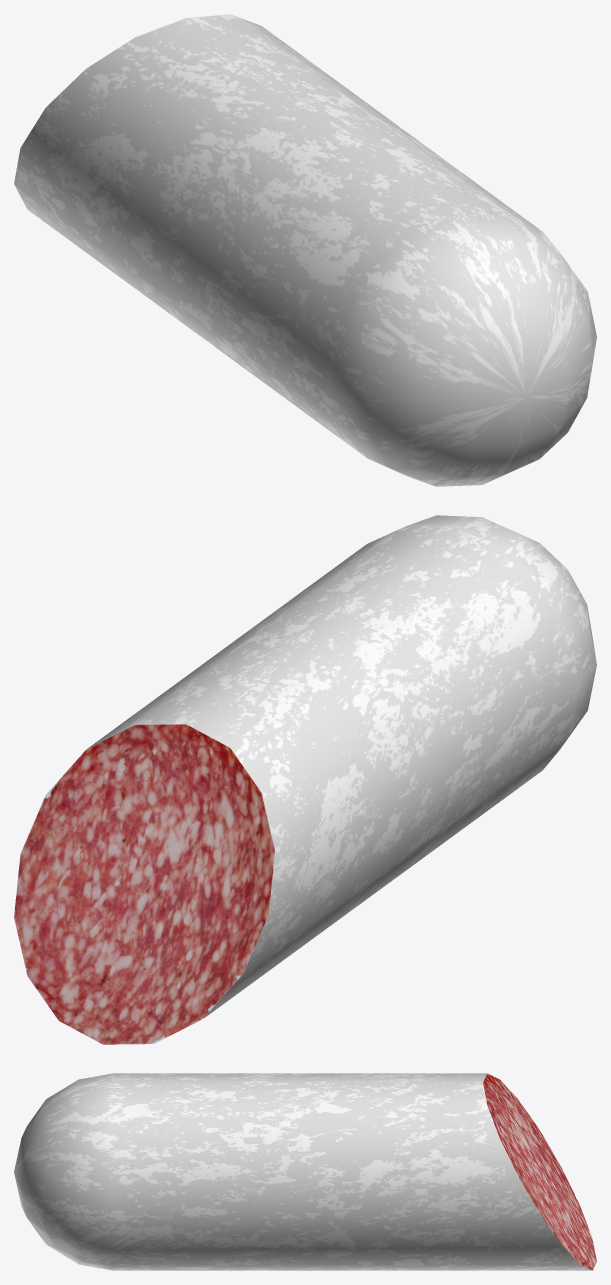
Rendered from salami.fbx.
3 views of the same model, one above another, from view 1: azimuth 30°, elevation 25°; view 2: azimuth 150°, elevation 25°; view 3: azimuth 270°, elevation 25° (orthographic). The views are drawn at different scales.
Parts seen in each view (by area): view 1: pCube1; view 2: pCube1; view 3: pCube1.
Boxes of the visible parts, box(x1,y1,x2,y2) form: pCube1: box(14, 14, 596, 486); pCube1: box(14, 515, 596, 1044); pCube1: box(14, 1073, 596, 1270).
Size of the model in its own units: 1 by 1 by 2.95.
